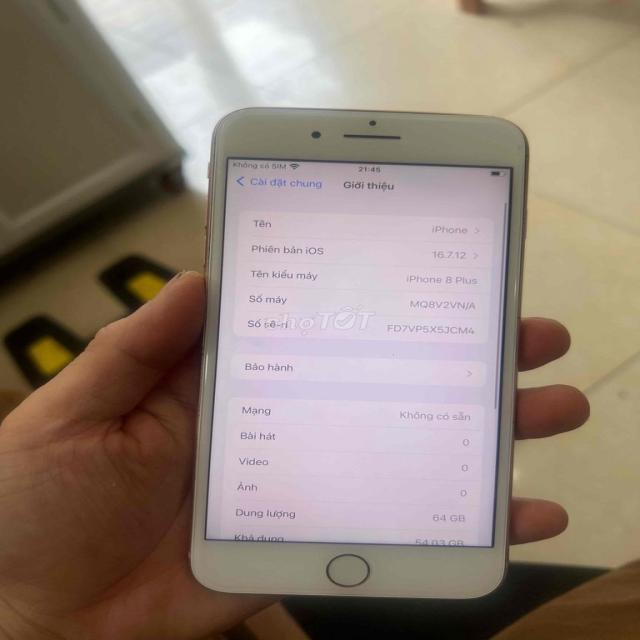gen_7_8: (190, 104, 519, 608)
